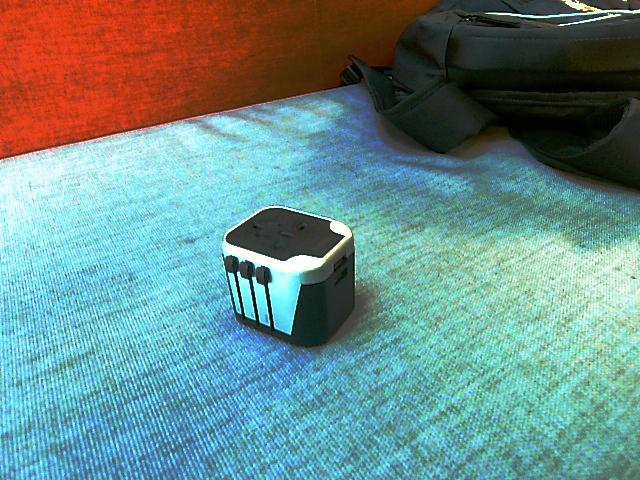adapter: (220, 205, 356, 347)
